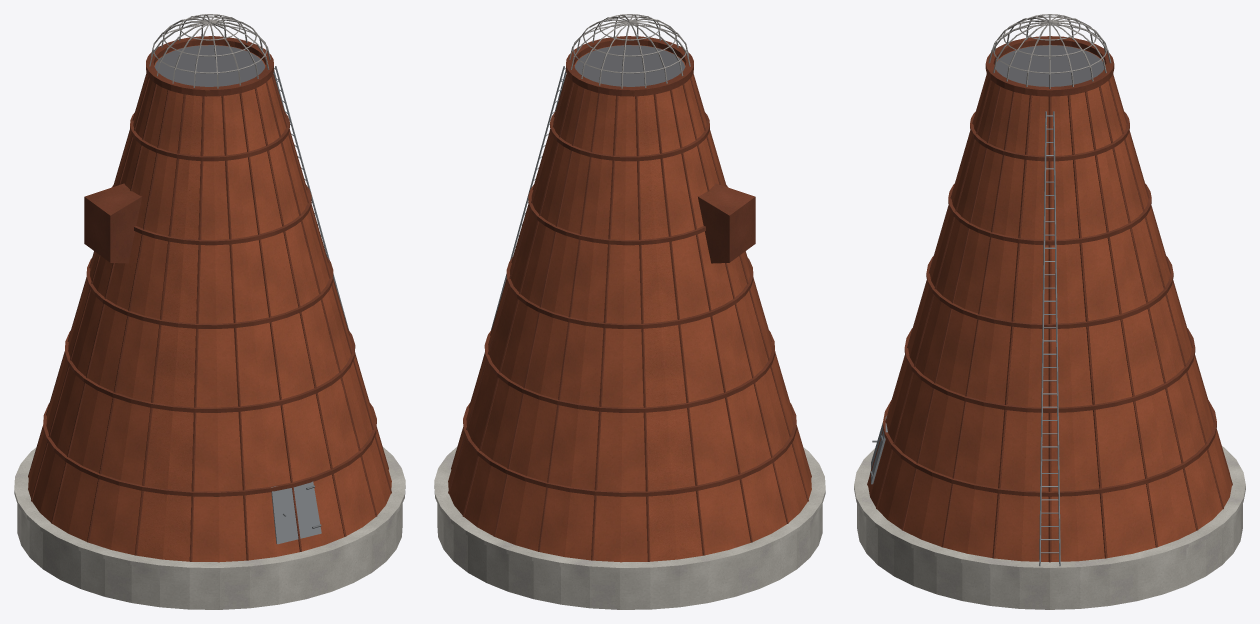
File: burner.glb
3 views of the same model, side by side, from view 1: azimuth 30°, elevation 25°; view 2: azimuth 150°, elevation 25°; view 3: azimuth 270°, elevation 25° (orthographic).
Parts seen in each view (by area): view 1: burner_rust, burner_rust_d, burner_concrete, burner_dark, burner_steel_d, burner_mesh; view 2: burner_rust, burner_rust_d, burner_concrete, burner_dark, burner_mesh, burner_steel_d; view 3: burner_rust, burner_rust_d, burner_concrete, burner_dark, burner_steel_d, burner_mesh.
Boxes of the visible parts, x1,y1,x2,y2 form: burner_rust: (28,45,391,562); burner_rust_d: (28,36,391,561); burner_concrete: (14,447,405,609); burner_dark: (154,45,265,86); burner_steel_d: (271,66,355,544); burner_mesh: (149,14,270,88); burner_rust: (448,45,811,562); burner_rust_d: (448,36,811,561); burner_concrete: (434,447,825,609); burner_dark: (574,45,685,86); burner_mesh: (569,14,690,88); burner_steel_d: (483,66,566,357); burner_rust: (868,45,1231,561); burner_rust_d: (867,36,1232,562); burner_concrete: (854,446,1245,609); burner_dark: (995,45,1104,86); burner_steel_d: (871,111,1060,566); burner_mesh: (988,14,1111,88).
Bounding box in the file's own units: 9.04 × 12.95 × 9.04.
7 materials, 3 textured.
